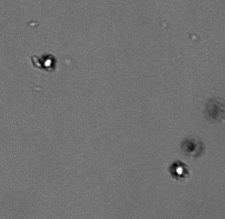Dead Cell: (207, 99, 224, 122), (183, 136, 202, 156)
Living Cell: (169, 160, 189, 179), (39, 54, 55, 70)
